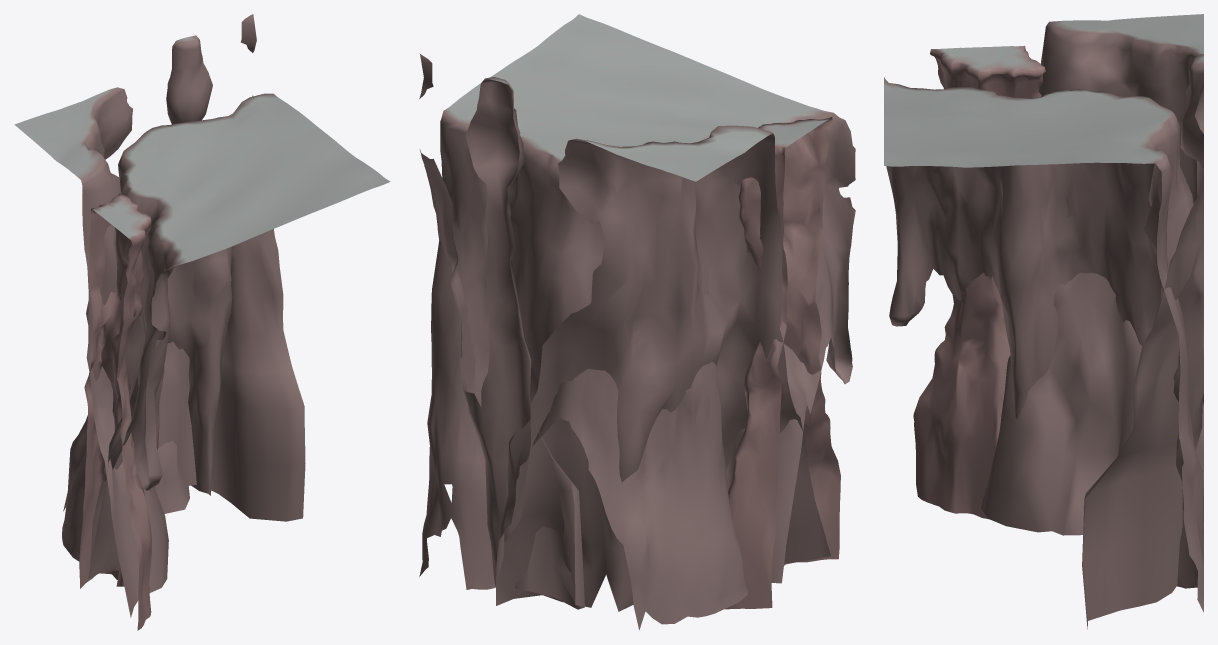
The picture shows the model from 3 angles, left to right: view 1: azimuth 30°, elevation 25°; view 2: azimuth 150°, elevation 25°; view 3: azimuth 270°, elevation 25°; orthographic projection. The views are drawn at different scales.
Parts seen in each view (by area): view 1: G:\FFXIV-MapTools\exports\u5f1\bg\ex4\04_uvs_u5\fld\u5f1\bgp (×10); view 2: G:\FFXIV-MapTools\exports\u5f1\bg\ex4\04_uvs_u5\fld\u5f1\bgp (×10); view 3: G:\FFXIV-MapTools\exports\u5f1\bg\ex4\04_uvs_u5\fld\u5f1\bgp (×10).
Boxes of the visible parts, x1,y1,x2,y2 form: G:\FFXIV-MapTools\exports\u5f1\bg\ex4\04_uvs_u5\fld\u5f1\bgp (×10): [14, 14, 390, 630]; G:\FFXIV-MapTools\exports\u5f1\bg\ex4\04_uvs_u5\fld\u5f1\bgp (×10): [419, 14, 855, 630]; G:\FFXIV-MapTools\exports\u5f1\bg\ex4\04_uvs_u5\fld\u5f1\bgp (×10): [884, 14, 1203, 629].
Bounding box in the file's own units: 128 × 240 × 128.
